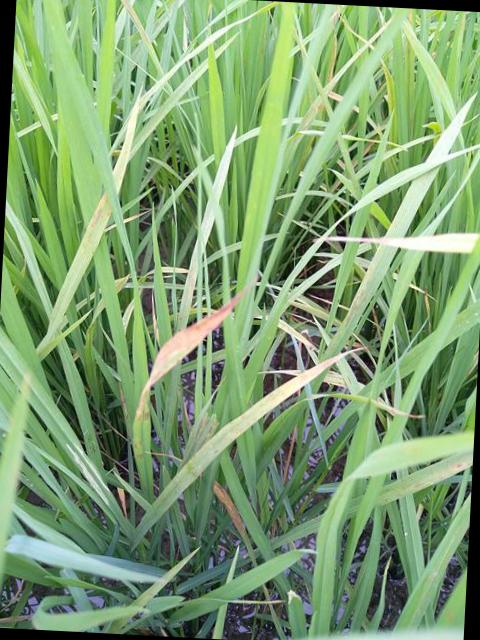Leaf Blight: (147, 360, 340, 525), (135, 296, 242, 422), (35, 193, 111, 354), (323, 23, 389, 89), (202, 129, 237, 249), (309, 393, 426, 419), (119, 0, 160, 69), (113, 96, 140, 194), (328, 235, 468, 250), (177, 247, 197, 332), (279, 321, 319, 355), (298, 97, 325, 132), (381, 59, 394, 125), (341, 15, 369, 42), (196, 414, 217, 449), (324, 371, 346, 387), (329, 38, 336, 80), (257, 371, 303, 376), (328, 91, 344, 102), (368, 44, 375, 51)
Leaf Streak: (395, 451, 472, 497), (214, 482, 249, 537)
